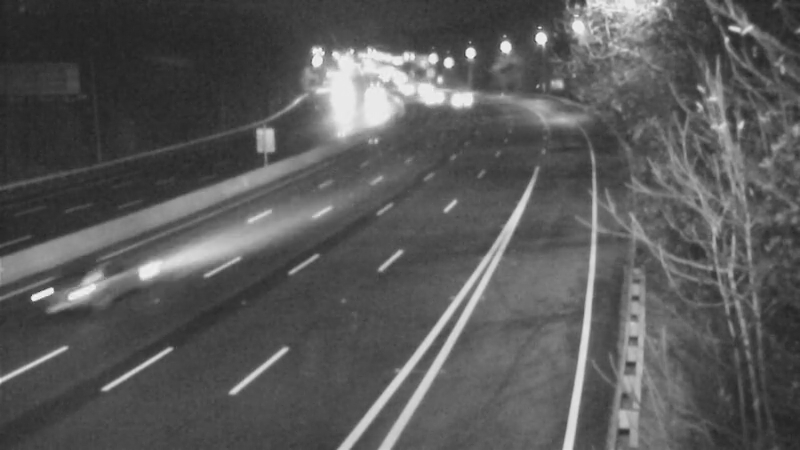vehicle: (24, 252, 104, 332), (406, 69, 456, 119), (434, 75, 484, 125), (341, 66, 391, 116)
